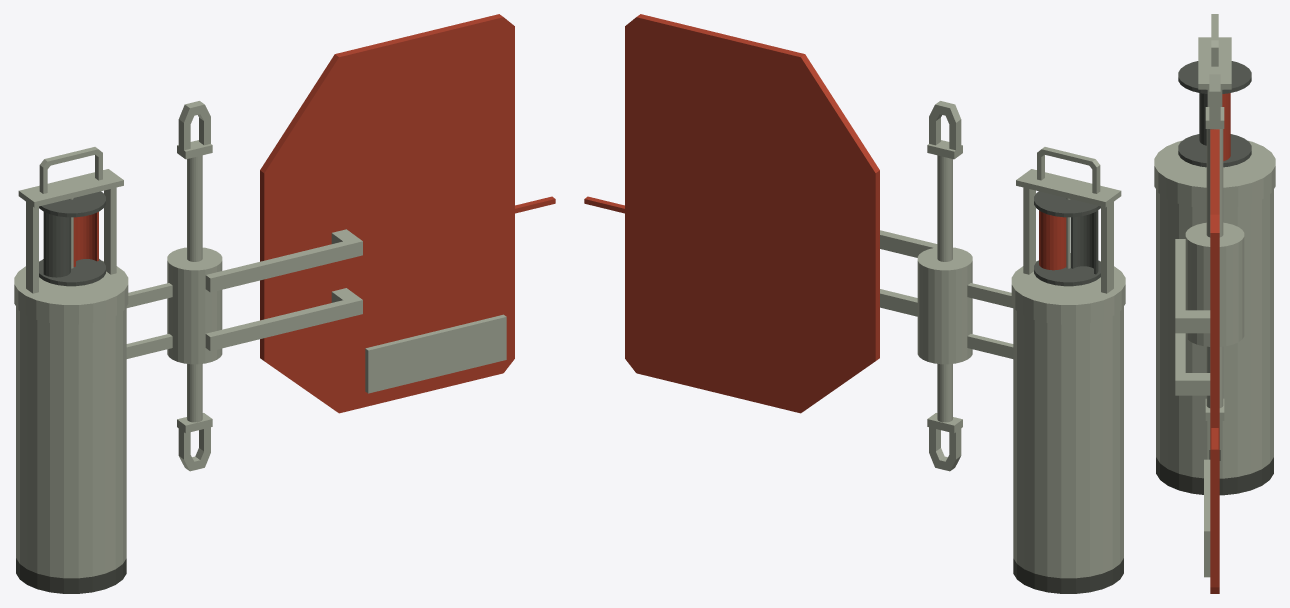
The picture shows the model from 3 angles, left to right: view 1: azimuth 30°, elevation 25°; view 2: azimuth 150°, elevation 25°; view 3: azimuth 270°, elevation 25°; orthographic projection. The views are drawn at different scales.
Parts seen in each view (by area): view 1: VANE_large_direction_plate, RECORDER_pressure_housing, VANE_ballast_face, SWIVEL_hollow_sleeve, RECORDER_head_collar, LINK_vane_front_lower, LINK_vane_front_upper, MOORING_central_through_shaft, GUARD_top_bridge, RECORDER_bottom_foot, ROTOR_curved_bucket_1, ROTOR_curved_bucket_0 (+9 smaller); view 2: VANE_large_direction_plate, RECORDER_pressure_housing, SWIVEL_hollow_sleeve, RECORDER_head_collar, MOORING_central_through_shaft, GUARD_top_bridge, RECORDER_bottom_foot, ROTOR_curved_bucket_0, ROTOR_curved_bucket_1, GUARD_upright_0, MOORING_upper_open_eye, ROTOR_top_disc (+8 smaller); view 3: RECORDER_pressure_housing, SWIVEL_hollow_sleeve, RECORDER_head_collar, VANE_large_direction_plate, RECORDER_bottom_foot, MOORING_central_through_shaft, GUARD_top_bridge, ROTOR_bottom_disc, ROTOR_top_disc, LINK_vane_front_upper, VANE_ballast_face, LINK_vane_front_lower (+9 smaller).
Part boxes in pixels (x1=…): VANE_large_direction_plate: x1=260, y1=14, x2=514, y2=413; RECORDER_pressure_housing: x1=16, y1=307, x2=126, y2=578; VANE_ballast_face: x1=365, y1=314, x2=506, y2=393; SWIVEL_hollow_sleeve: x1=167, y1=247, x2=222, y2=364; RECORDER_head_collar: x1=14, y1=260, x2=128, y2=324; LINK_vane_front_lower: x1=205, y1=296, x2=362, y2=351; LINK_vane_front_upper: x1=205, y1=238, x2=362, y2=292; MOORING_central_through_shaft: x1=187, y1=155, x2=202, y2=422; GUARD_top_bridge: x1=18, y1=169, x2=123, y2=207; RECORDER_bottom_foot: x1=16, y1=558, x2=126, y2=593; ROTOR_curved_bucket_1: x1=43, y1=212, x2=70, y2=277; ROTOR_curved_bucket_0: x1=73, y1=212, x2=98, y2=266; VANE_large_direction_plate: x1=625, y1=14, x2=879, y2=413; RECORDER_pressure_housing: x1=1013, y1=307, x2=1123, y2=578; SWIVEL_hollow_sleeve: x1=917, y1=247, x2=972, y2=364; RECORDER_head_collar: x1=1011, y1=260, x2=1125, y2=324; MOORING_central_through_shaft: x1=937, y1=155, x2=952, y2=422; GUARD_top_bridge: x1=1016, y1=169, x2=1121, y2=207; RECORDER_bottom_foot: x1=1013, y1=558, x2=1123, y2=593; ROTOR_curved_bucket_0: x1=1039, y1=210, x2=1066, y2=270; ROTOR_curved_bucket_1: x1=1071, y1=210, x2=1098, y2=274; GUARD_upright_0: x1=1101, y1=202, x2=1113, y2=293; MOORING_upper_open_eye: x1=929, y1=101, x2=961, y2=150; ROTOR_top_disc: x1=1034, y1=191, x2=1100, y2=217; RECORDER_pressure_housing: x1=1156, y1=189, x2=1273, y2=478; SWIVEL_hollow_sleeve: x1=1185, y1=222, x2=1244, y2=346; RECORDER_head_collar: x1=1154, y1=140, x2=1275, y2=208; VANE_large_direction_plate: x1=1210, y1=129, x2=1219, y2=593; RECORDER_bottom_foot: x1=1156, y1=457, x2=1273, y2=495; MOORING_central_through_shaft: x1=1206, y1=129, x2=1223, y2=407; GUARD_top_bridge: x1=1198, y1=37, x2=1231, y2=89; ROTOR_bottom_disc: x1=1178, y1=134, x2=1251, y2=167; ROTOR_top_disc: x1=1178, y1=61, x2=1251, y2=93; LINK_vane_front_upper: x1=1175, y1=239, x2=1185, y2=333; VANE_ballast_face: x1=1204, y1=459, x2=1210, y2=577; LINK_vane_front_lower: x1=1175, y1=333, x2=1185, y2=395.
Size of the model in its own units: 0.711 by 0.575 by 0.132.
